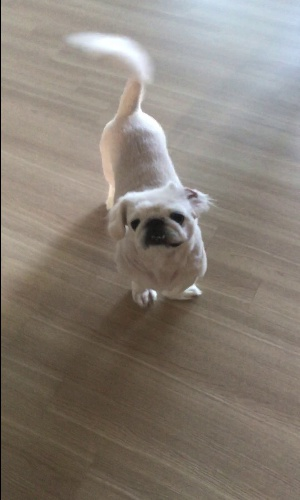ddubi: (62, 25, 214, 308)
